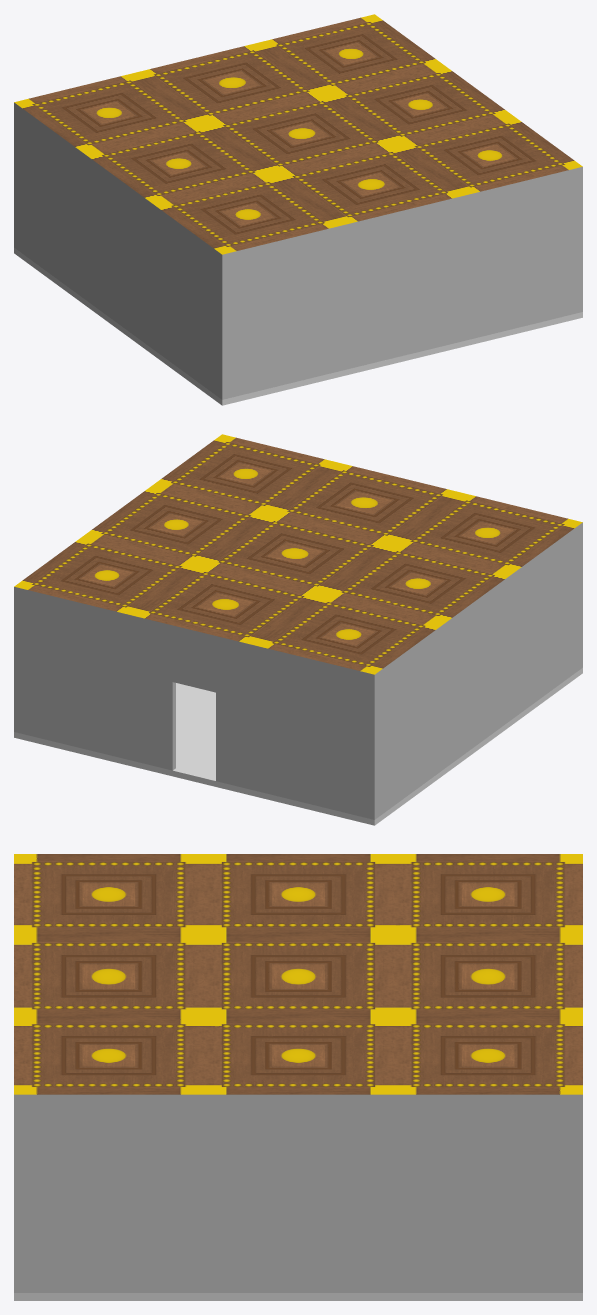
The model's file is decorated.fbx.
3 views of the same model, one above another, from view 1: azimuth 30°, elevation 25°; view 2: azimuth 150°, elevation 25°; view 3: azimuth 270°, elevation 25° (orthographic). The views are drawn at different scales.
Visible parts, largest first — view 1: Plane; view 2: Plane; view 3: Plane.
Boxes of the visible parts, x1,y1,x2,y2 form: Plane: (14, 14, 582, 405); Plane: (14, 434, 582, 825); Plane: (14, 854, 582, 1300).
Size of the model in its own units: 1000 by 400 by 1000.
